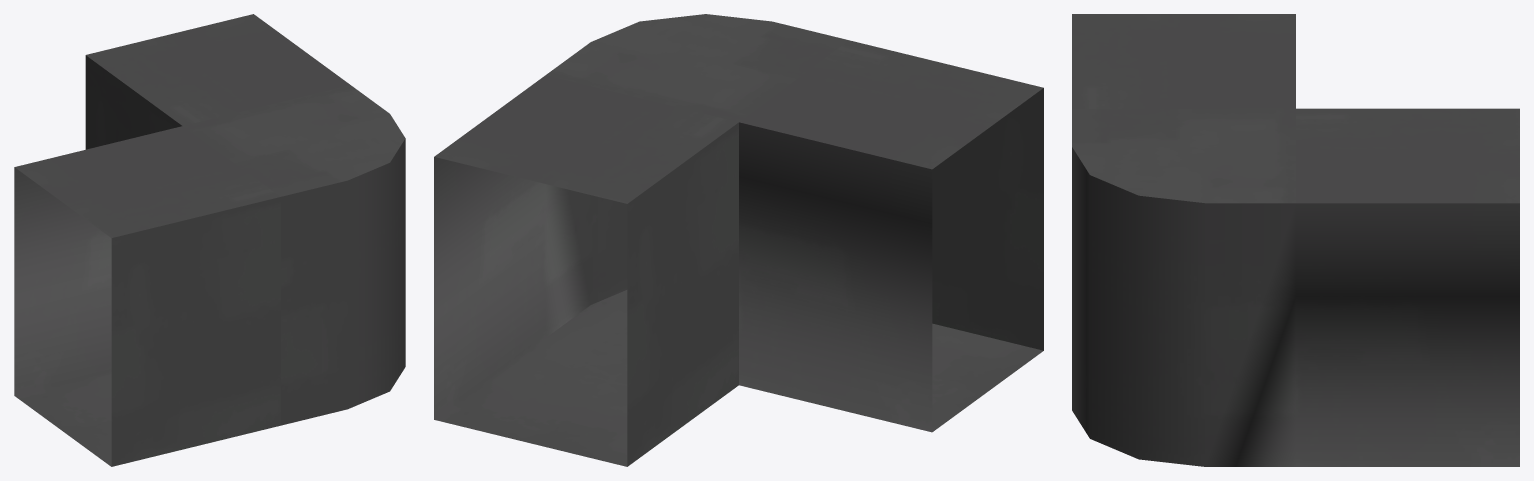
The model's file is En_W_wallVent3.fbx.
The picture shows the model from 3 angles, left to right: view 1: azimuth 30°, elevation 25°; view 2: azimuth 150°, elevation 25°; view 3: azimuth 270°, elevation 25°; orthographic projection. The views are drawn at different scales.
Parts seen in each view (by area): view 1: En_W_wallVent3; view 2: En_W_wallVent3; view 3: En_W_wallVent3.
Boxes of the visible parts, bbox=[...] form: En_W_wallVent3: bbox=[14, 14, 405, 466]; En_W_wallVent3: bbox=[434, 14, 1043, 466]; En_W_wallVent3: bbox=[1072, 14, 1519, 466].
Size of the model in its own units: 200 by 130 by 200.
